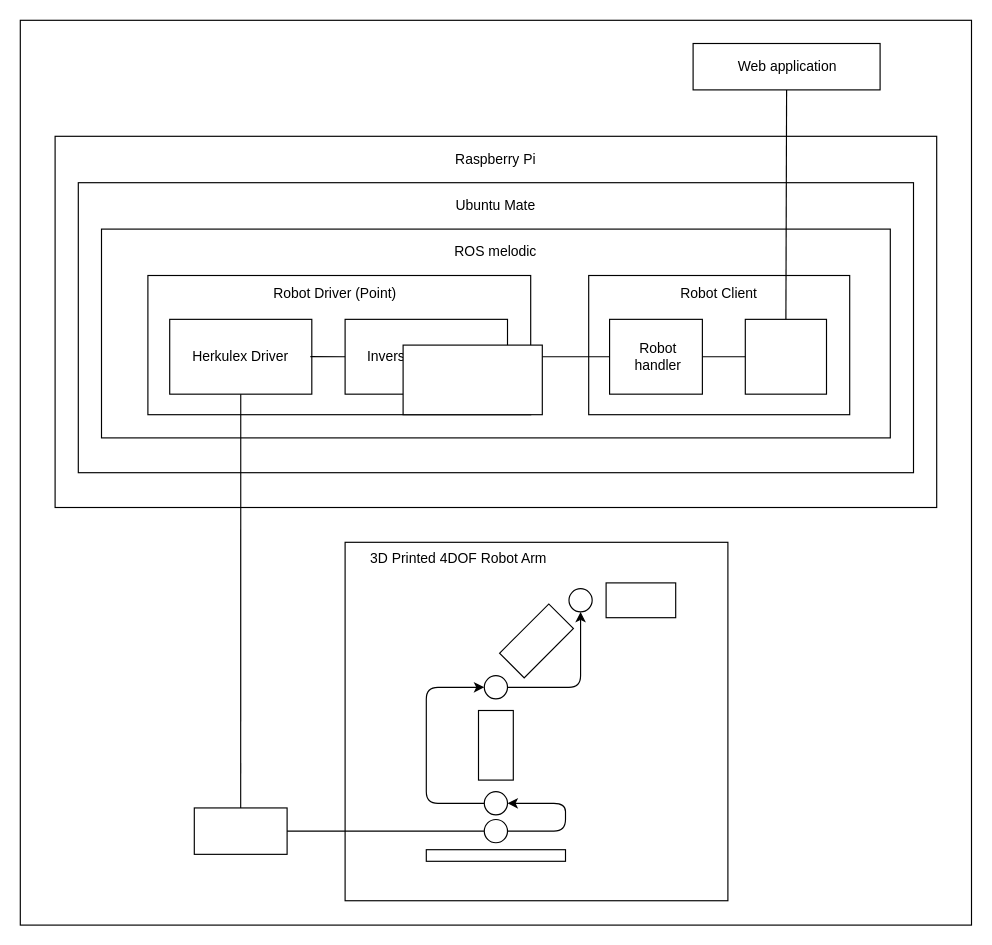
The diagram is 992 pixels wide and 945 high, and some of its shapes have lost their labels. The box of each missing label's shape, as (x1, y1, x2, y2) in pixels:
Motor driver: (193, 807, 287, 854)
Protocol handler: (744, 318, 826, 394)
